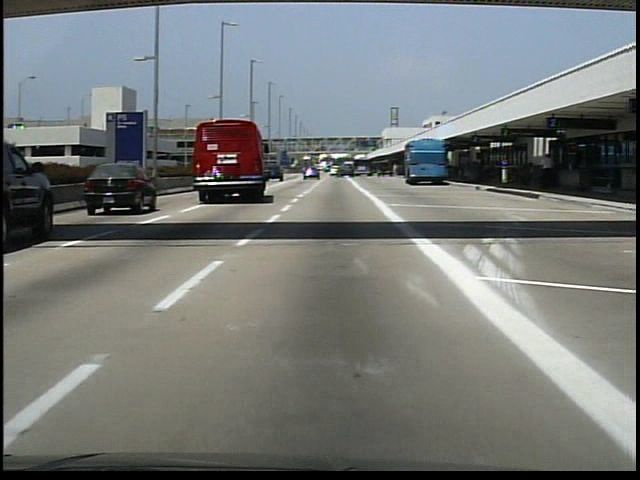person: (540, 155, 555, 191)
